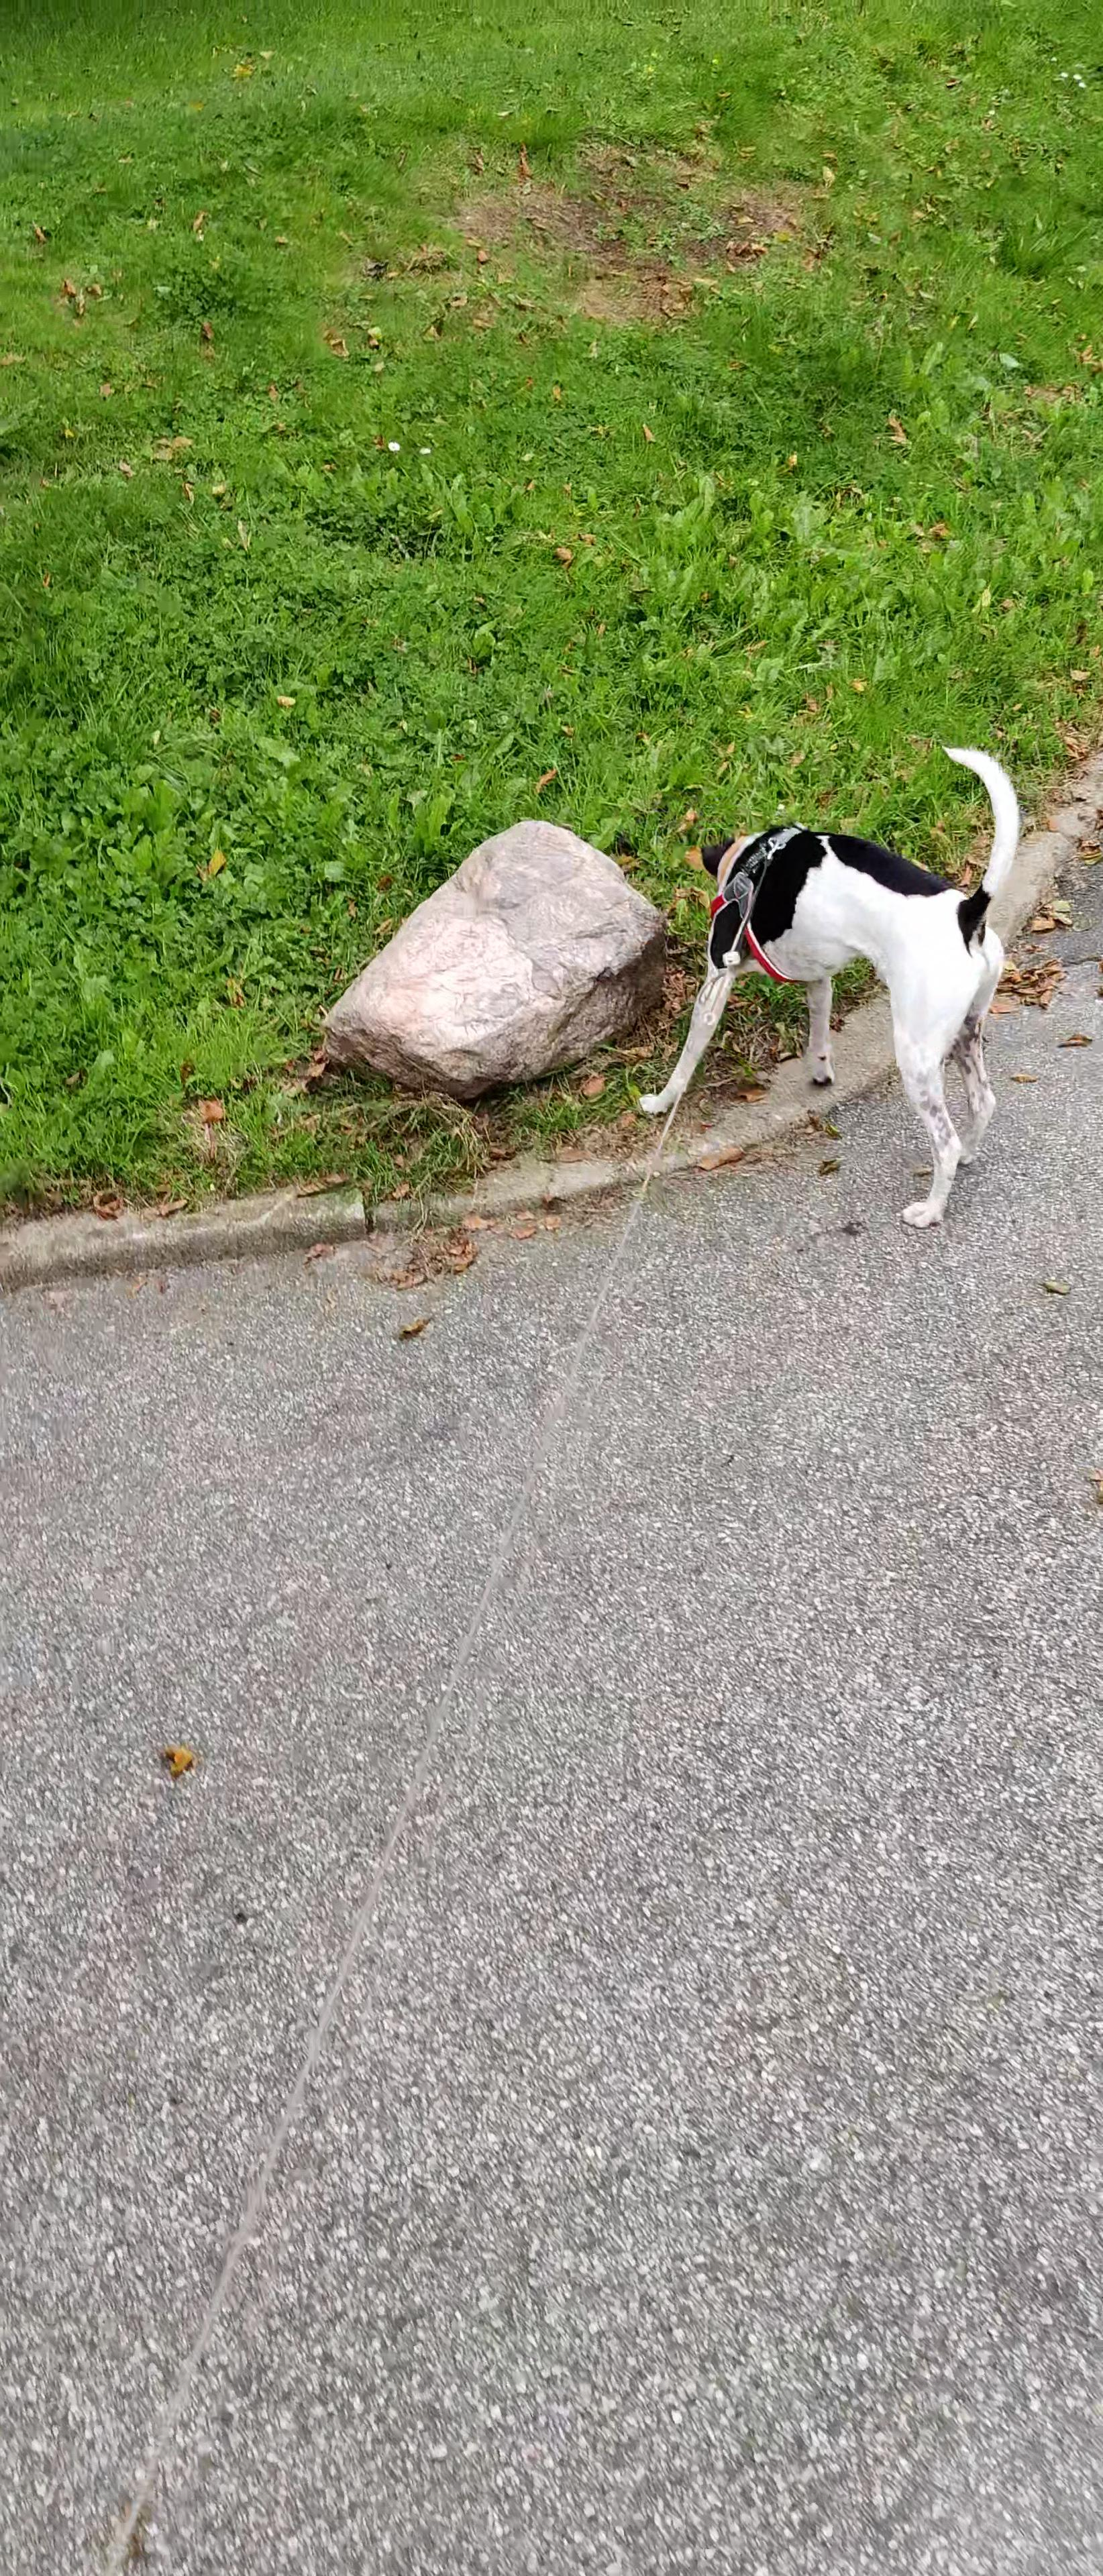Dog: (631, 741, 1036, 1234)
